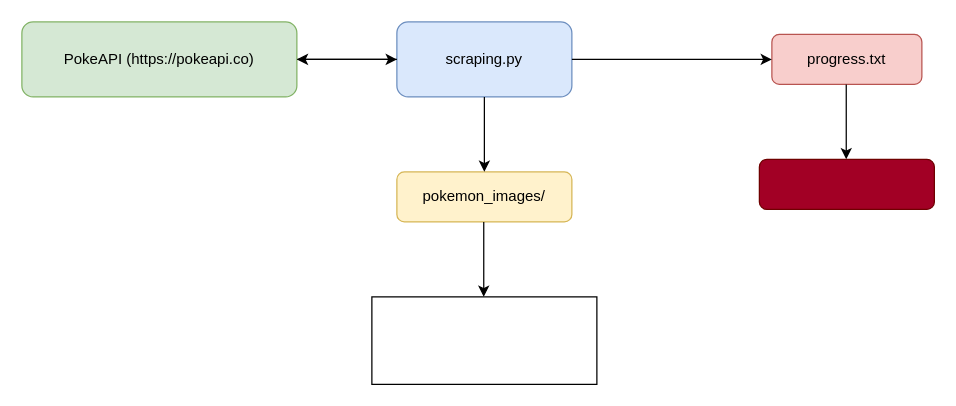
Image size: 956x406. Some labels were removed from this diagram. The shapes that lost their labels are listed below. From the top down, each one's centre as x and y in pixels, then its label:
At point 846,183: "Incrémentation du nombre de 20 à chaque lancement du script".
At point 484,340: "Nom et image pokémon : 001_bulbasaur.png".
